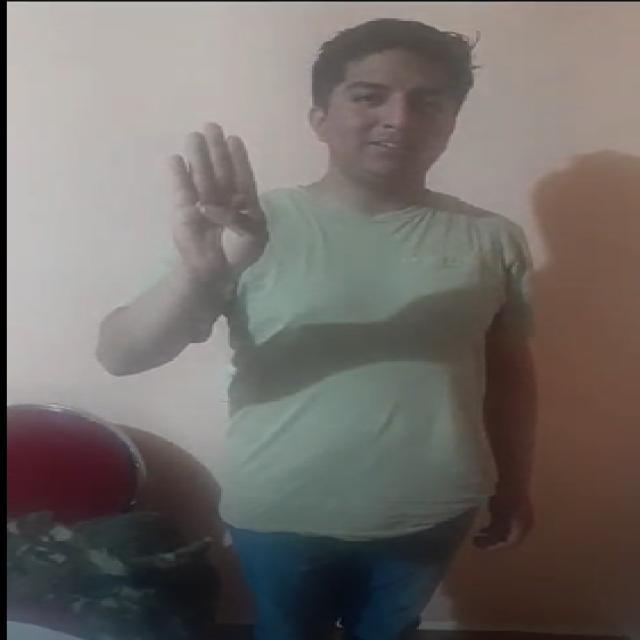B: (152, 127, 302, 290)
